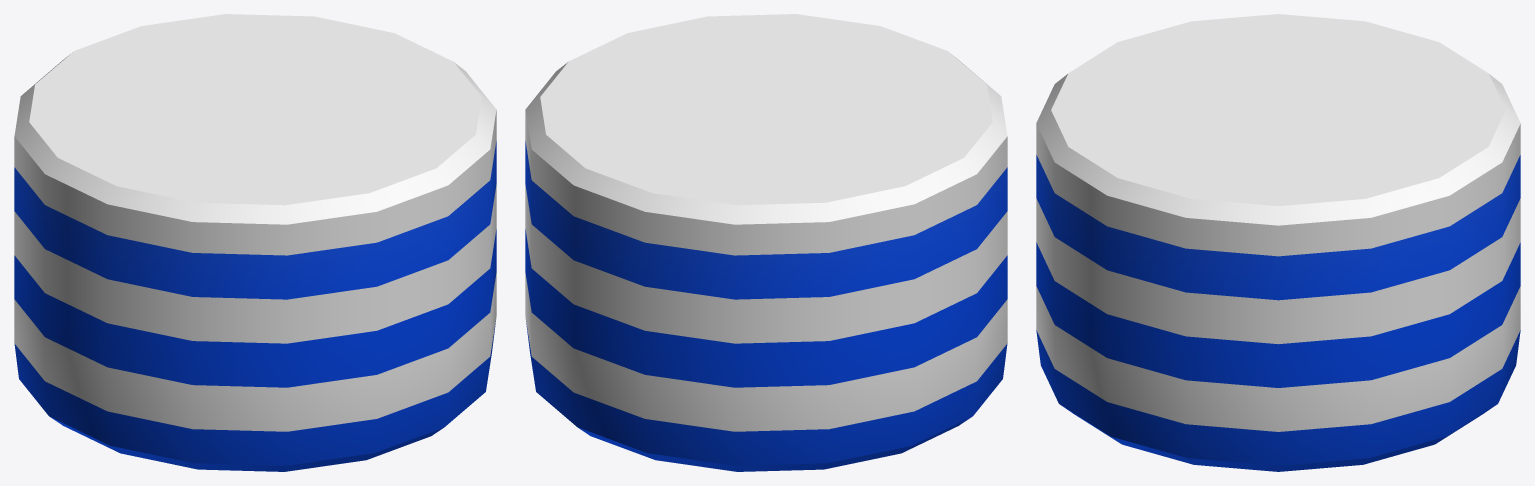
Rendered from Body_Dress_17.fbx.
3 views of the same model, side by side, from view 1: azimuth 30°, elevation 25°; view 2: azimuth 150°, elevation 25°; view 3: azimuth 270°, elevation 25° (orthographic).
Visible parts, largest first — view 1: Body_Dress_17; view 2: Body_Dress_17; view 3: Body_Dress_17.
Boxes of the visible parts, x1=… form: Body_Dress_17: x1=14, y1=14, x2=496, y2=471; Body_Dress_17: x1=525, y1=14, x2=1007, y2=471; Body_Dress_17: x1=1036, y1=14, x2=1520, y2=471.
Size of the model in its own units: 100 by 61.13 by 100.
